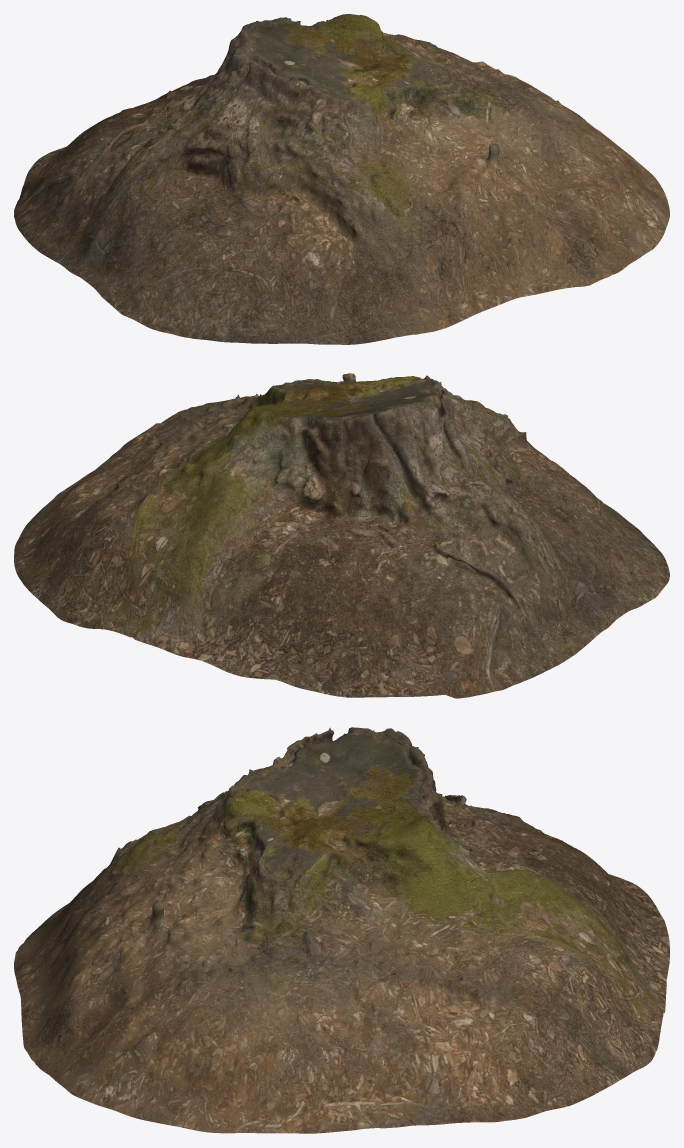
File: nature-ph-tree-stump-mossy.glb
3 renders of one model, top to bottom at view 1: azimuth 30°, elevation 25°; view 2: azimuth 150°, elevation 25°; view 3: azimuth 270°, elevation 25°, orthographic. The views are drawn at different scales.
Visible parts, largest first — view 1: tree_stump_02; view 2: tree_stump_02; view 3: tree_stump_02.
Part boxes in pixels (<box>): tree_stump_02: <box>14,14,669,344</box>; tree_stump_02: <box>14,373,669,698</box>; tree_stump_02: <box>14,727,669,1133</box>.
Size of the model in its own units: 1.52 by 0.522 by 1.39.
1 material, 1 textured.
